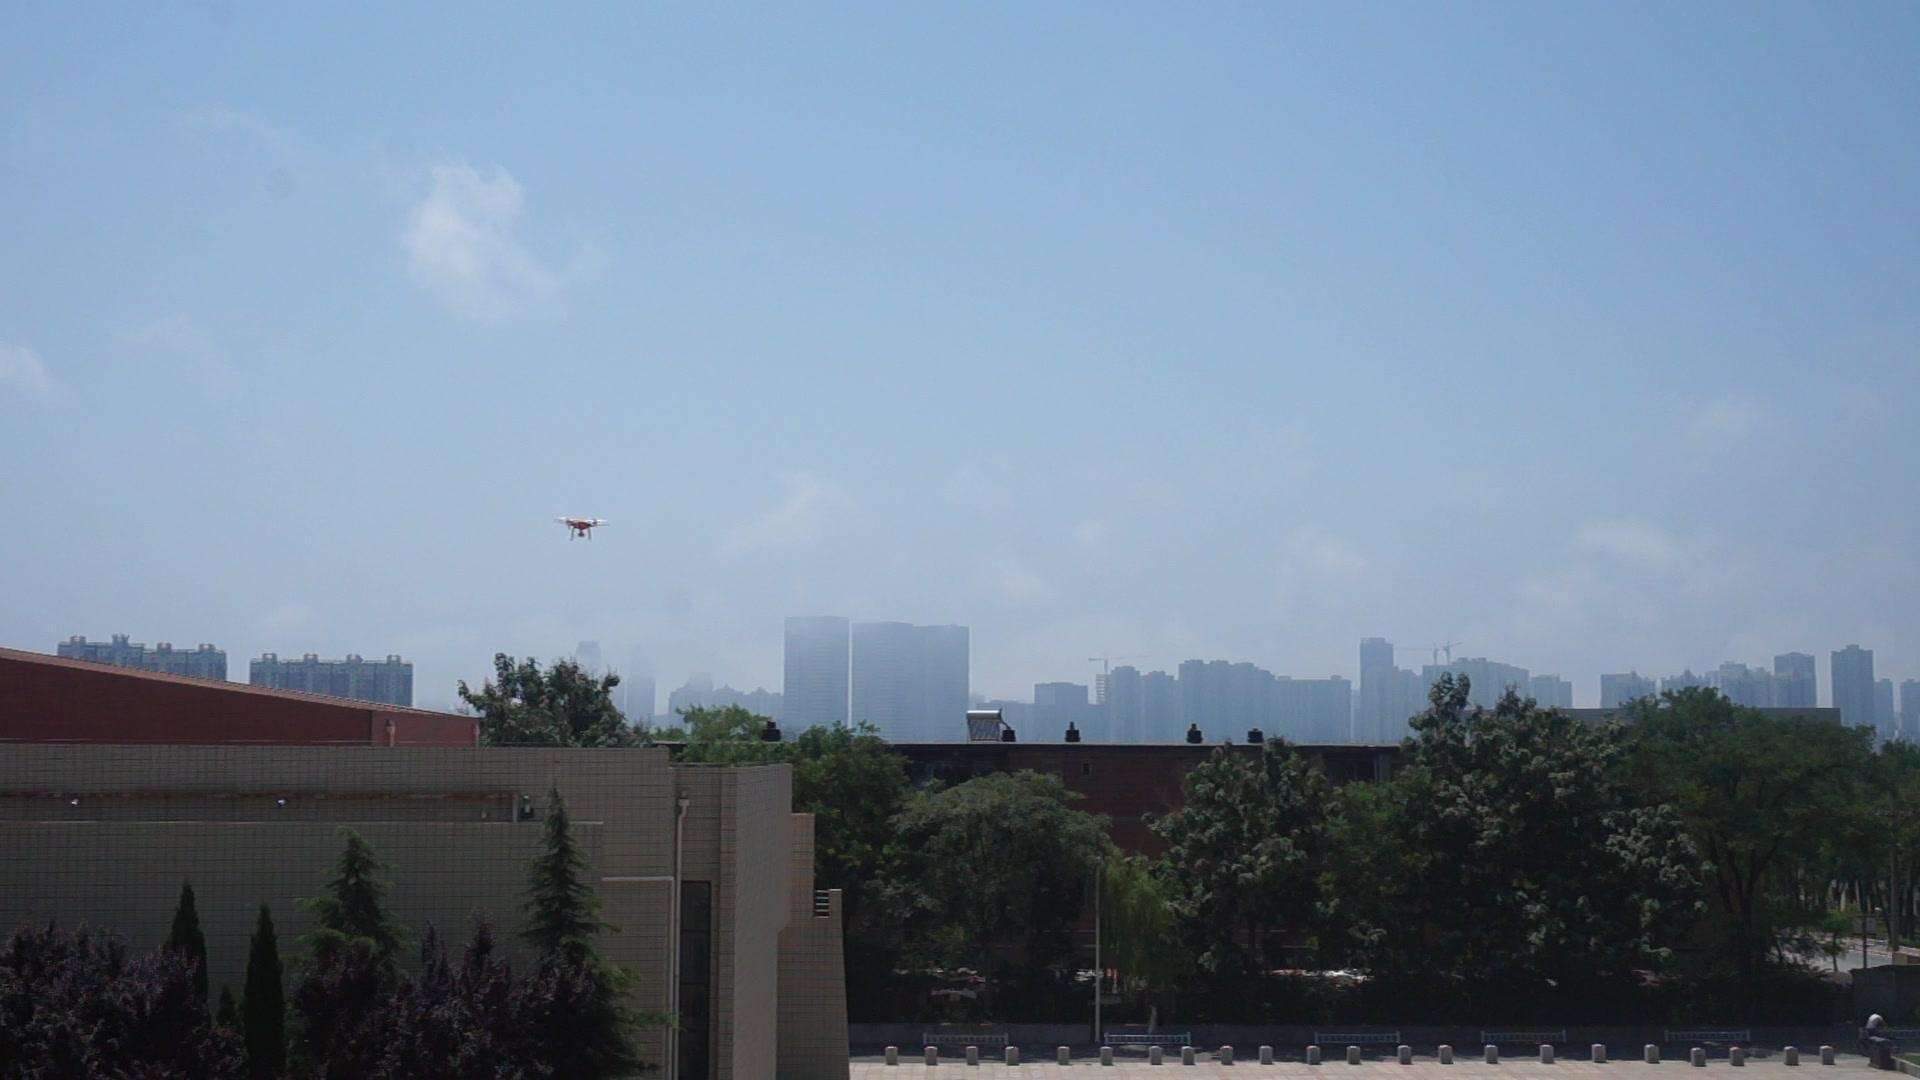UAV: (555, 520, 611, 542)
